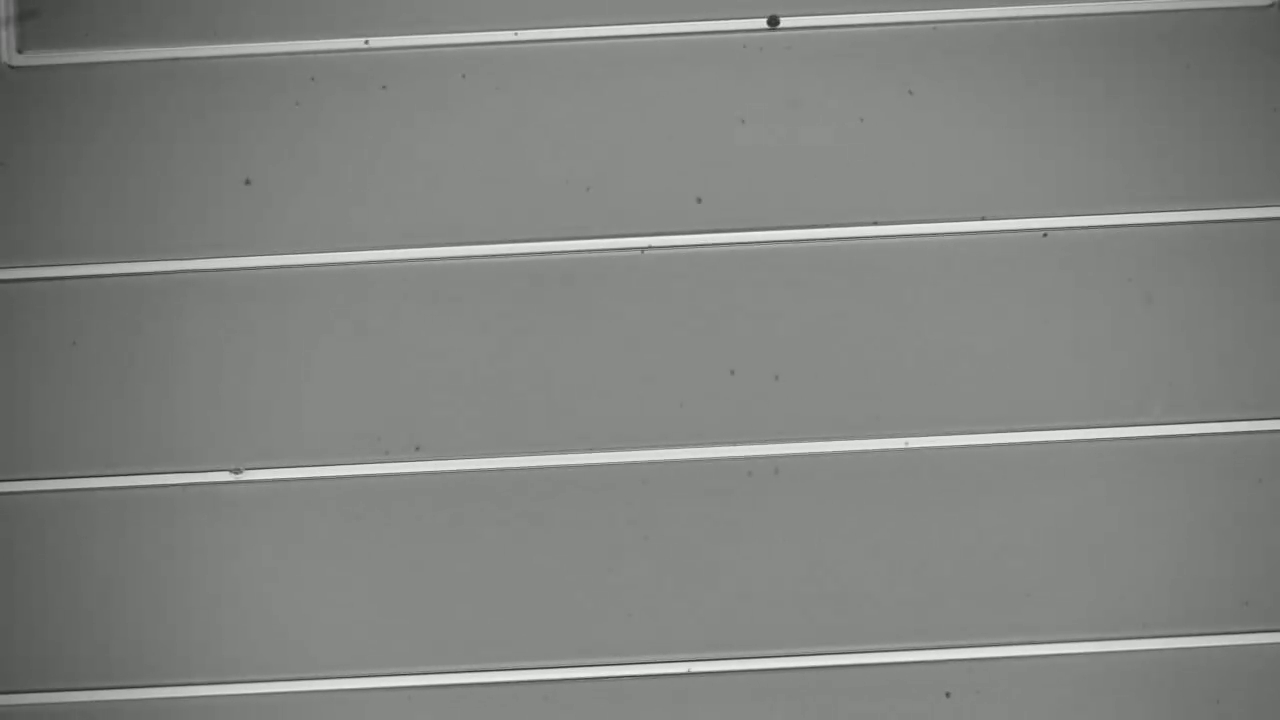stains_enbedded: (221, 455, 252, 493), (763, 7, 795, 40)
